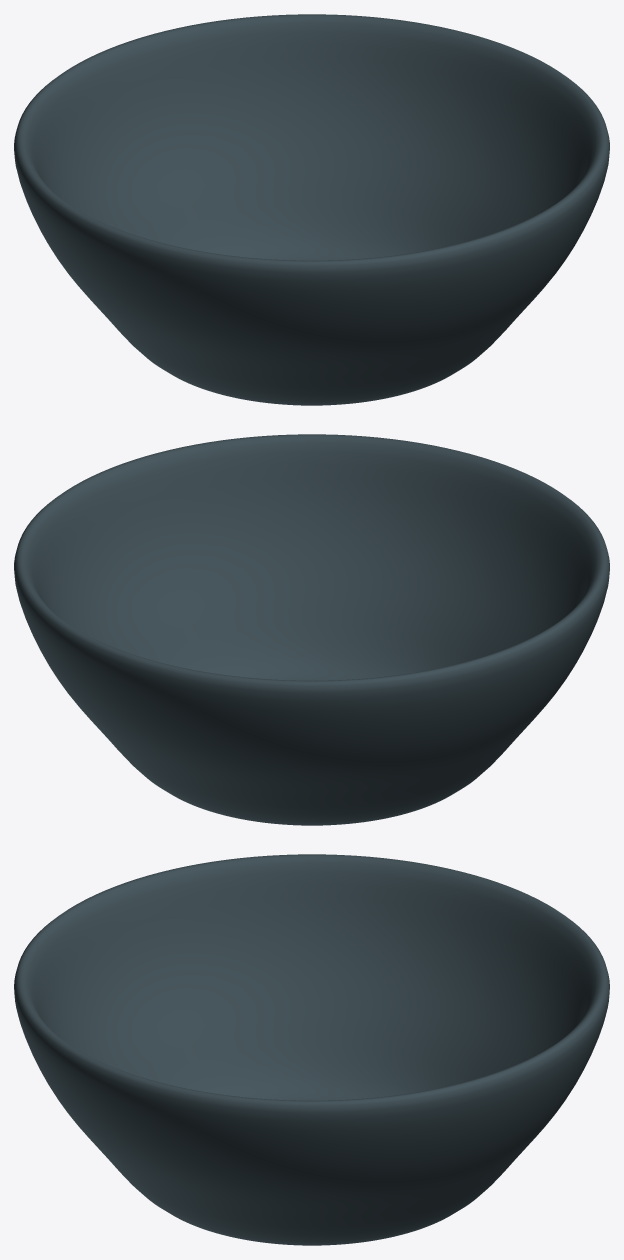
File: bowl.glb
3 renders of one model, top to bottom at view 1: azimuth 30°, elevation 25°; view 2: azimuth 150°, elevation 25°; view 3: azimuth 270°, elevation 25°, orthographic.
Visible parts, largest first — view 1: Sphere_0; view 2: Sphere_0; view 3: Sphere_0.
Part boxes in pixels (x1,y1,x2,y2): Sphere_0: (14,14,609,405); Sphere_0: (14,434,609,825); Sphere_0: (14,854,609,1245).
Bounding box in the file's own units: 0.3 × 0.1134 × 0.3.
